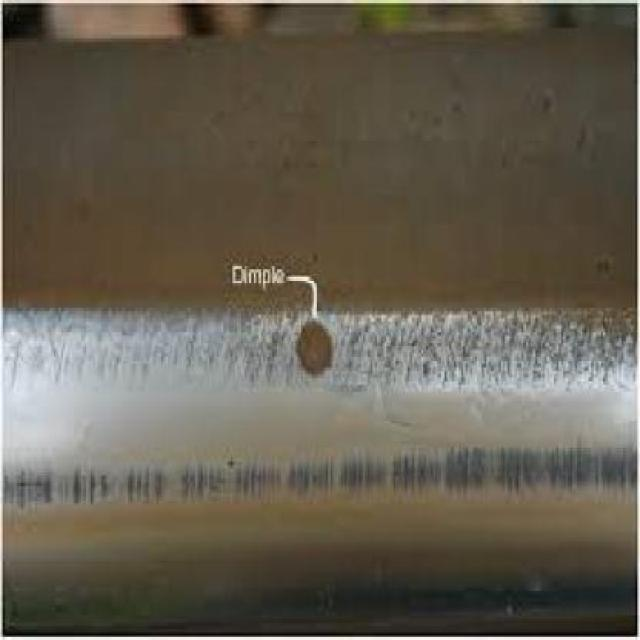defective: (176, 227, 405, 456)
